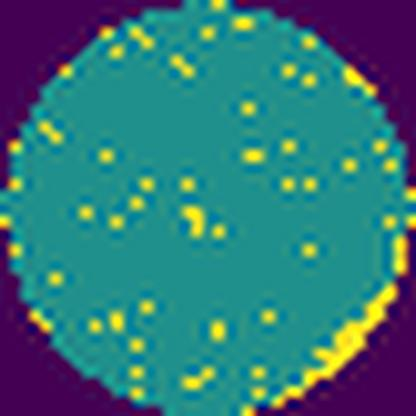Edge-Loc: (265, 278, 399, 409), (387, 230, 415, 274)
